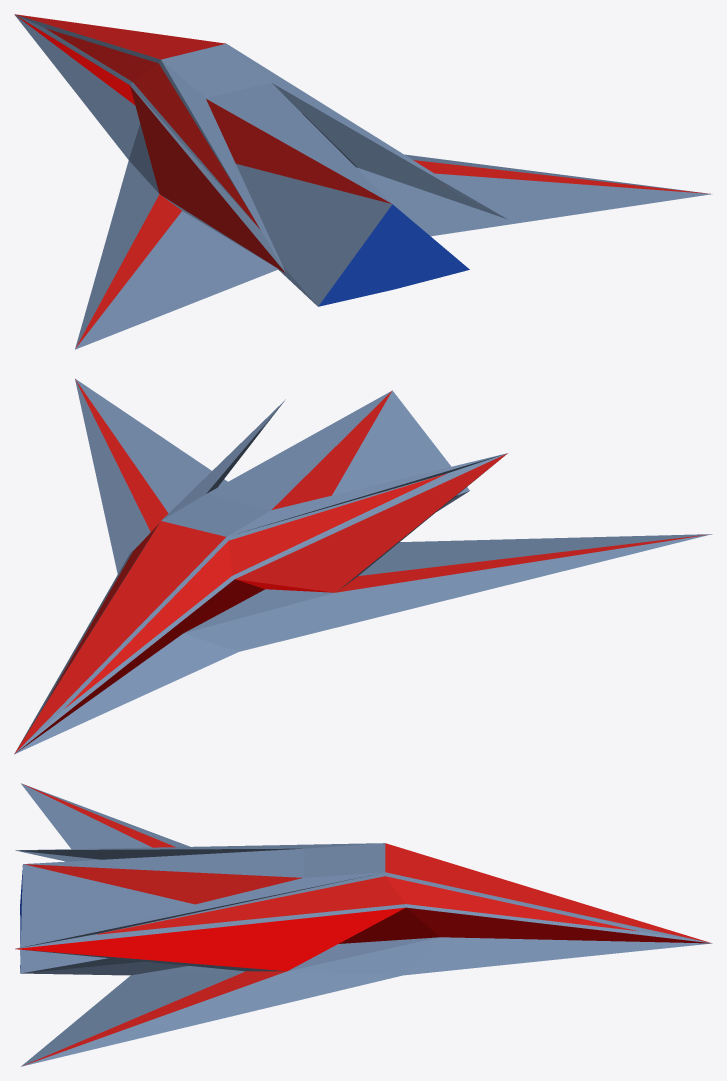
Rendered from MicroTri Swarmer.FBX.
3 views of the same model, one above another, from view 1: azimuth 30°, elevation 25°; view 2: azimuth 150°, elevation 25°; view 3: azimuth 270°, elevation 25° (orthographic). The views are drawn at different scales.
Parts seen in each view (by area): view 1: Hedra001; view 2: Hedra001; view 3: Hedra001.
Boxes of the visible parts, x1,y1,x2,y2 form: Hedra001: (14, 14, 712, 349); Hedra001: (14, 378, 712, 754); Hedra001: (15, 783, 712, 1066).
Size of the model in its own units: 173 by 27.7 by 180.
